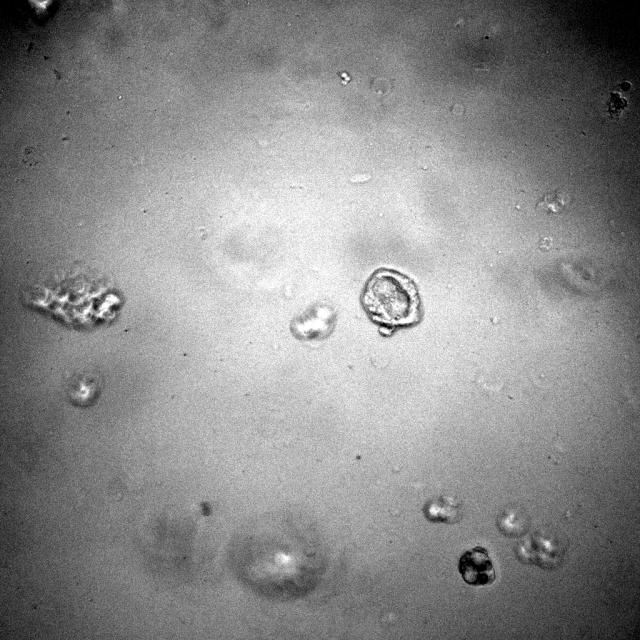organoid: (20, 267, 125, 330), (361, 267, 421, 335), (514, 530, 564, 570), (291, 301, 336, 341), (64, 366, 103, 407), (458, 546, 495, 586), (422, 495, 461, 524), (496, 505, 530, 538)
